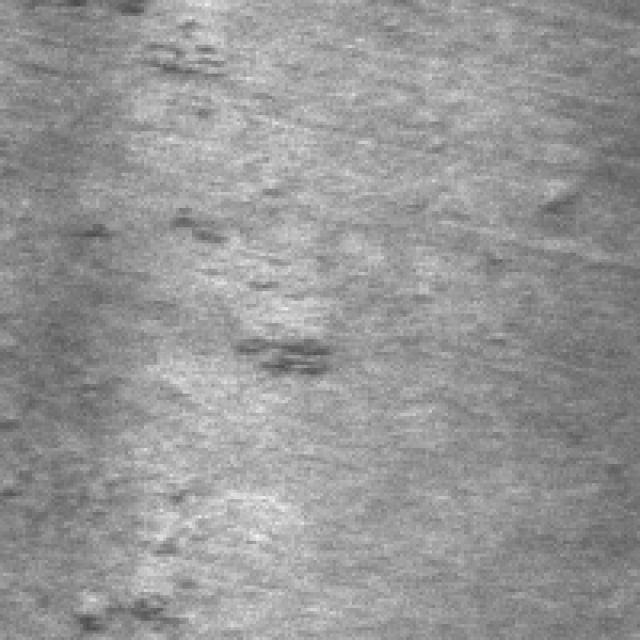rolled-in_scale: (170, 189, 342, 384), (64, 467, 221, 637), (90, 0, 233, 83)
